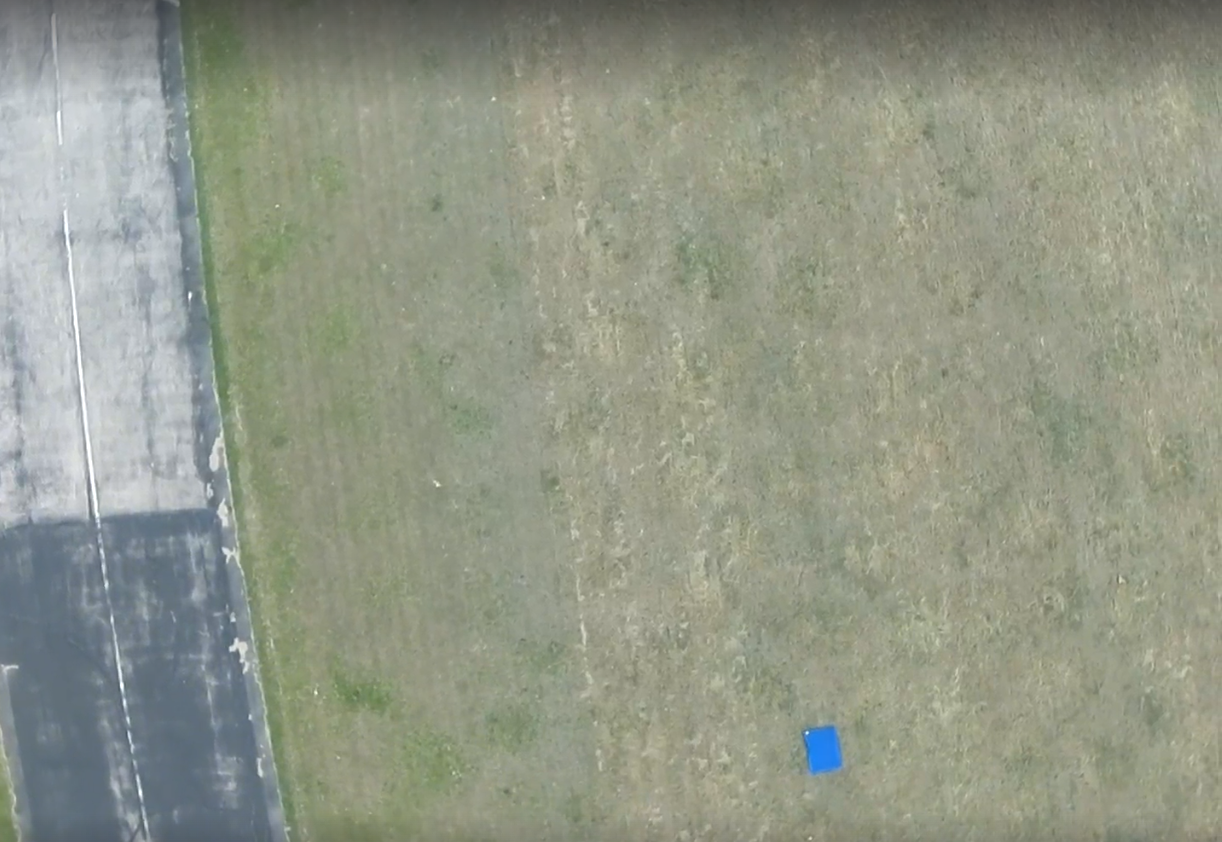TOI: (800, 725, 843, 771)
